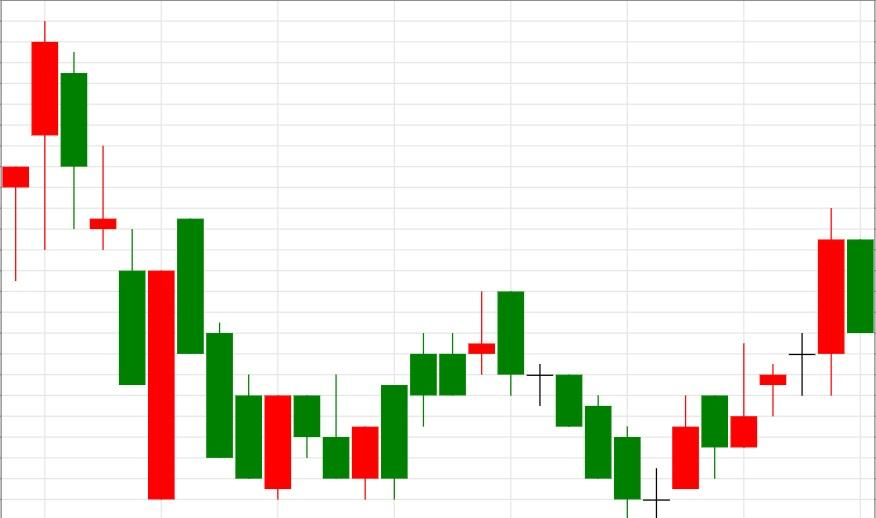bearish_engulfing_fall: (350, 291, 525, 501)
morning_star_rise: (496, 291, 700, 518)
